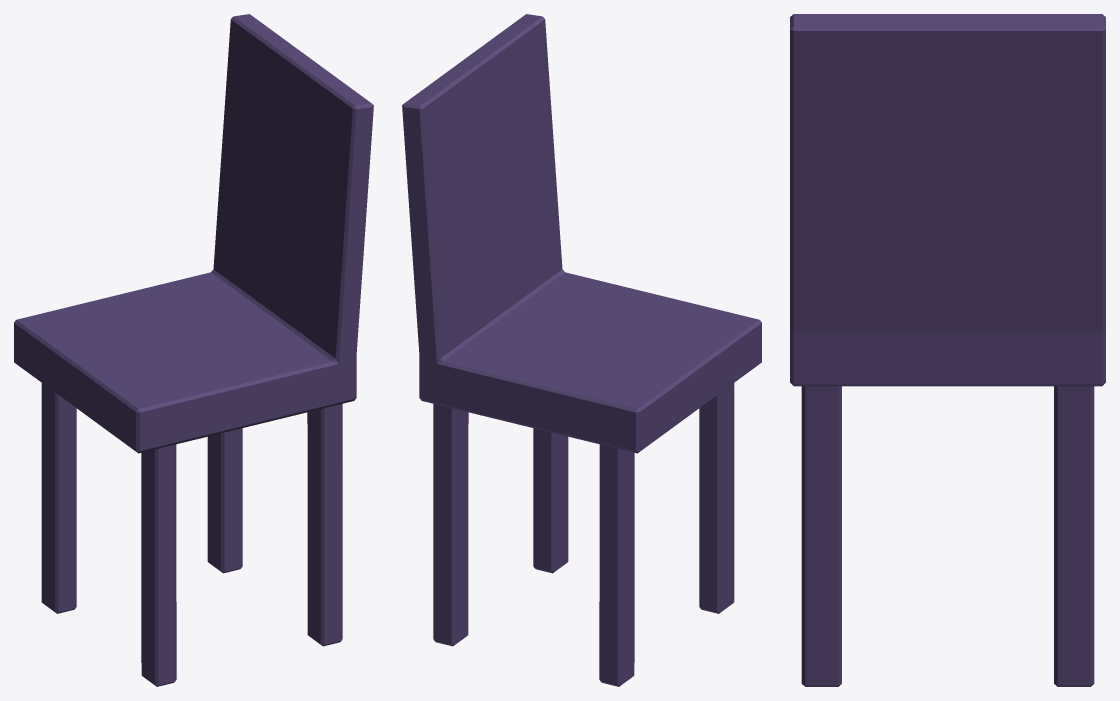
File: Chair.fbx
3 views of the same model, side by side, from view 1: azimuth 30°, elevation 25°; view 2: azimuth 150°, elevation 25°; view 3: azimuth 270°, elevation 25° (orthographic). The views are drawn at different scales.
Parts seen in each view (by area): view 1: Chair; view 2: Chair; view 3: Chair.
Part boxes in pixels (left/top/right/bottom): Chair: left=14, top=14, right=373, bottom=686; Chair: left=402, top=14, right=761, bottom=686; Chair: left=790, top=14, right=1105, bottom=686.
Bounding box in the file's own units: 0.4954 × 1.07 × 0.4504.
